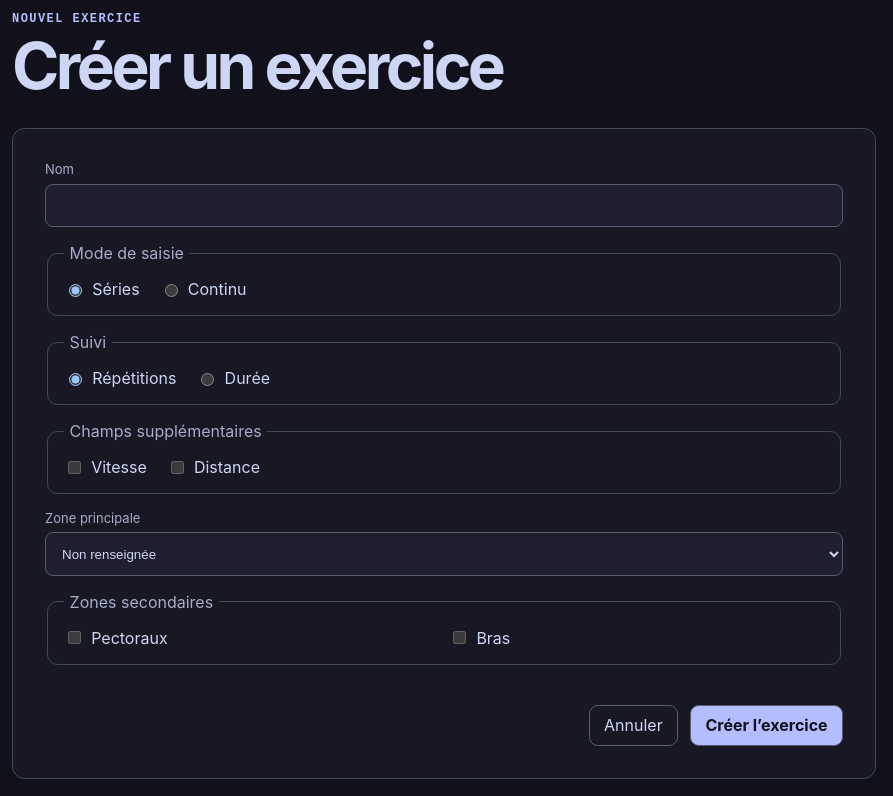
Test: ExercisesPage › prevents continuous repetitions in the creation form
Click the radio button labelled "Continu": (171, 290) x1=165 y1=284 x2=178 y2=297
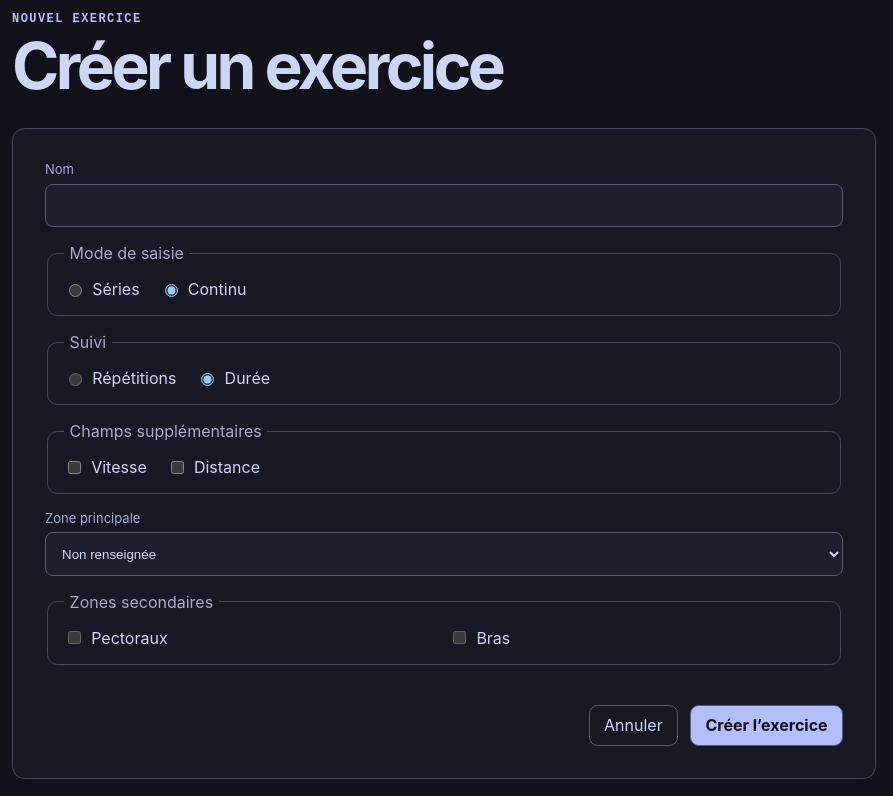
Check: the button "Créer l’exercice" is enabled, box x1=690 y1=705 x2=843 y2=746
Check: the radio button labelled "Répétitions" is disabled, box x1=69 y1=373 x2=82 y2=386
